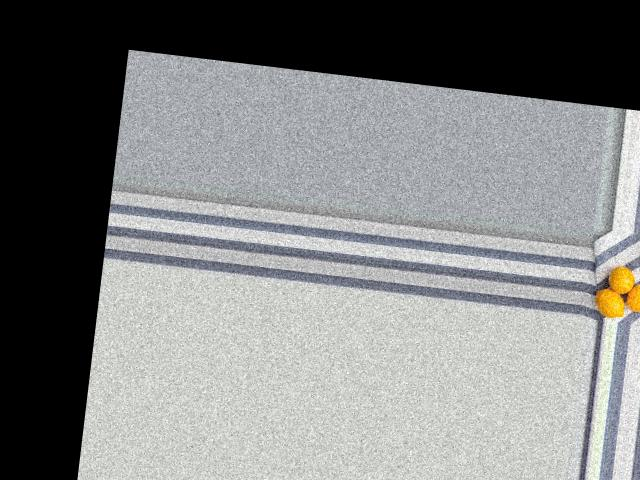lemon: (593, 288, 627, 319)
